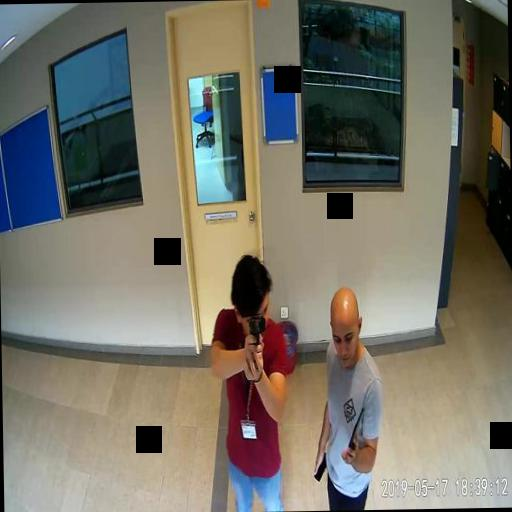Handgun: (247, 313, 265, 358)
